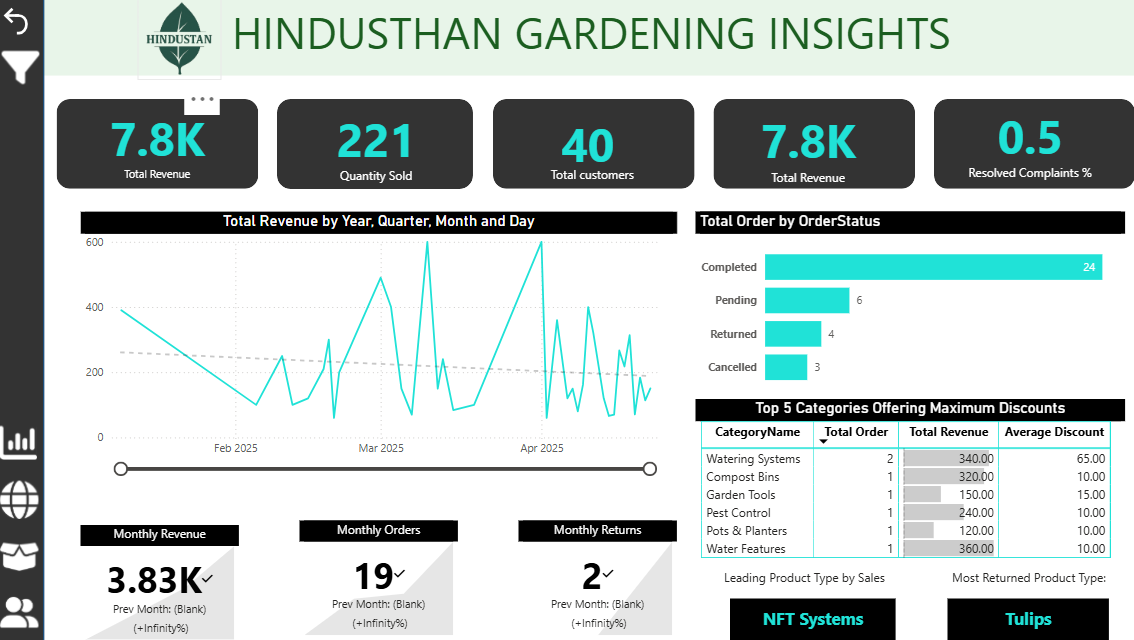

The page's visual inventory and layout, read from the dashboard file:
{"tool":"powerbi","page":{"name":"Dash","canvas":[1280,720],"ordinal":0},"visuals":[{"type":"shape","title":"NAV-shape","box":[0,0,54.8,719.4],"z":0,"group":"g2"},{"type":"shape","box":[45.2,87.1,1235.5,150],"z":0},{"type":"shape","box":[1042.6,112.9,223.4,99.8],"z":0,"group":"g1"},{"type":"actionButton","box":[0,470,54.5,50.6],"z":0,"group":"g3"},{"type":"actionButton","title":"reload","box":[4,6,50,40],"z":1000,"group":"g2"},{"type":"group","id":"g1","title":"kpibox","box":[67.7,112.9,1198.4,99.8],"z":1000},{"type":"shape","box":[797.4,112.9,224,99.7],"z":1000,"group":"g1"},{"type":"actionButton","box":[1,532.6,54.5,50.6],"z":1000,"group":"g3"},{"type":"shape","box":[313.2,112.9,217.7,100],"z":2000},{"type":"shape","box":[552.2,112.9,224,99.7],"z":2000,"group":"g1"},{"type":"actionButton","box":[1,596.6,54.5,50.6],"z":2000,"group":"g3"},{"type":"actionButton","box":[152,0,54,42],"z":3000},{"type":"shape","box":[67.7,112.9,224.3,99.7],"z":3000,"group":"g1"},{"type":"actionButton","box":[1,659.2,54.5,50.6],"z":3000,"group":"g3"},{"type":"actionButton","box":[120,2,64,50],"z":4000},{"type":"actionButton","box":[124,0,140,66],"z":5000},{"type":"actionButton","box":[200.8,25.7,26,26],"z":6000},{"type":"actionButton","box":[190.8,15.7,26,26],"z":7000},{"type":"actionButton","box":[120,12,96,64],"z":8000},{"type":"actionButton","box":[180.8,5.7,26,26],"z":9000},{"type":"tableEx","title":"Top 5 Categories Offering Maximum Discounts","fields":{"Values":["Category.CategoryName","Measures table.Total Order","Measures table.Total revenue","Measures table.Average Discount"]},"box":[779,446.8,477.4,183.9],"z":10000},{"type":"card","fields":{"Values":["Min(SubCategory.SubCategoryName)"]},"box":[816.1,667.7,183.9,46.8],"z":11000},{"type":"textbox","box":[804.8,630.6,221,37.1],"z":12000},{"type":"textbox","box":[1058.1,630.6,208.1,37.1],"z":13000},{"type":"card","fields":{"Values":["Min(SubCategory.SubCategoryName)"]},"box":[1058.1,667.7,179,46.8],"z":14000},{"type":"barChart","fields":{"Y":["Measures table.Total Order"],"Category":["Order.OrderStatus"]},"box":[779,238.7,477.4,208.1],"z":15000},{"type":"lineChart","fields":{"Y":["Measures table.Total revenue"],"Category":["Order.OrderDate.Variation.Date Hierarchy.Year","Order.OrderDate.Variation.Date Hierarchy.Quarter","Order.OrderDate.Variation.Date Hierarchy.Month","Order.OrderDate.Variation.Date Hierarchy.Day"]},"box":[95.2,238.7,662.9,296.8],"z":16000},{"type":"kpi","title":"Monthly Revenue","fields":{"Indicator":["Measures table.Total revenue"],"Goal":["Measures table.Previous Month Revenue"],"TrendLine":["Order.OrderDate.Variation.Date Hierarchy.Month"]},"box":[95.2,587.1,175.8,132.3],"z":17000},{"type":"kpi","title":"Monthly Orders","fields":{"Goal":["Measures table.Previous Month Revenue"],"TrendLine":["Order.OrderDate.Variation.Date Hierarchy.Month"],"Indicator":["Measures table.Total Order"]},"box":[338.7,582.3,175.8,132.3],"z":18000},{"type":"kpi","title":"Monthly Returns","fields":{"Goal":["Measures table.Previous Month Revenue"],"TrendLine":["Order.OrderDate.Variation.Date Hierarchy.Month"],"Indicator":["Measures table.Quantity Returned"]},"box":[582.3,582.3,175.8,132.3],"z":19000},{"type":"textbox","box":[45.2,0,1235.5,87.1],"z":20000},{"type":"actionButton","box":[8.1,53.2,40.3,48.4],"z":21000},{"type":"card","fields":{"Values":["Measures table.Total revenue"]},"box":[51.6,88.7,256.5,150],"z":22000},{"type":"card","fields":{"Values":["Measures table.Resolved Complaints %"]},"box":[1021,87.1,256.5,150],"z":23000},{"type":"card","fields":{"Values":["Measures table.Quantity Sold"]},"box":[295.2,90.3,256.5,150],"z":24000},{"type":"card","fields":{"Values":["CountNonNull(Customer.CustomerID)"]},"box":[530.6,87.1,256.5,150],"z":25000},{"type":"card","fields":{"Values":["Measures table.Total revenue"]},"box":[775.8,91.9,256.5,150],"z":26000},{"type":"textbox","box":[551.6,182.3,224.2,30.6],"z":27000},{"type":"image","box":[158,0,94,92],"z":28000},{"type":"group","id":"g2","title":"NAV","box":[0,0,214,720],"z":29000},{"type":"group","id":"g3","title":"Navigation Buttons","box":[0,470,54,240],"z":30000},{"type":"actionButton","box":[4,54,50,50],"z":31000}]}

Visuals, with their boxes on the page's 1280x720 design canvas (x1, y1, x2, y2). These are canvas units, not pixel positions in the 1134x640 screenshot, which may show the page scaled, cropped or inside an application window:
"NAV-shape" shape: 0,0,55,719
shape: 45,87,1281,237
shape: 1043,113,1266,213
actionButton: 0,470,54,521
"reload" actionButton: 4,6,54,46
"kpibox" group: 68,113,1266,213
shape: 797,113,1021,213
actionButton: 1,533,56,583
shape: 313,113,531,213
shape: 552,113,776,213
actionButton: 1,597,56,647
actionButton: 152,0,206,42
shape: 68,113,292,213
actionButton: 1,659,56,710
actionButton: 120,2,184,52
actionButton: 124,0,264,66
actionButton: 201,26,227,52
actionButton: 191,16,217,42
actionButton: 120,12,216,76
actionButton: 181,6,207,32
"Top 5 Categories Offering Maximum Discounts" tableEx: 779,447,1256,631
card - Min(SubCategory.SubCategoryName): 816,668,1000,714
textbox: 805,631,1026,668
textbox: 1058,631,1266,668
card - Min(SubCategory.SubCategoryName): 1058,668,1237,714
barChart - Measures table.Total Order x Order.OrderStatus: 779,239,1256,447
lineChart - Measures table.Total revenue x Order.OrderDate.Variation.Date Hierarchy.Year: 95,239,758,536
"Monthly Revenue" kpi: 95,587,271,719
"Monthly Orders" kpi: 339,582,514,715
"Monthly Returns" kpi: 582,582,758,715
textbox: 45,0,1281,87
actionButton: 8,53,48,102
card - Measures table.Total revenue: 52,89,308,239
card - Measures table.Resolved Complaints %: 1021,87,1278,237
card - Measures table.Quantity Sold: 295,90,552,240
card - CountNonNull(Customer.CustomerID): 531,87,787,237
card - Measures table.Total revenue: 776,92,1032,242
textbox: 552,182,776,213
image: 158,0,252,92
"NAV" group: 0,0,214,720
"Navigation Buttons" group: 0,470,54,710
actionButton: 4,54,54,104
